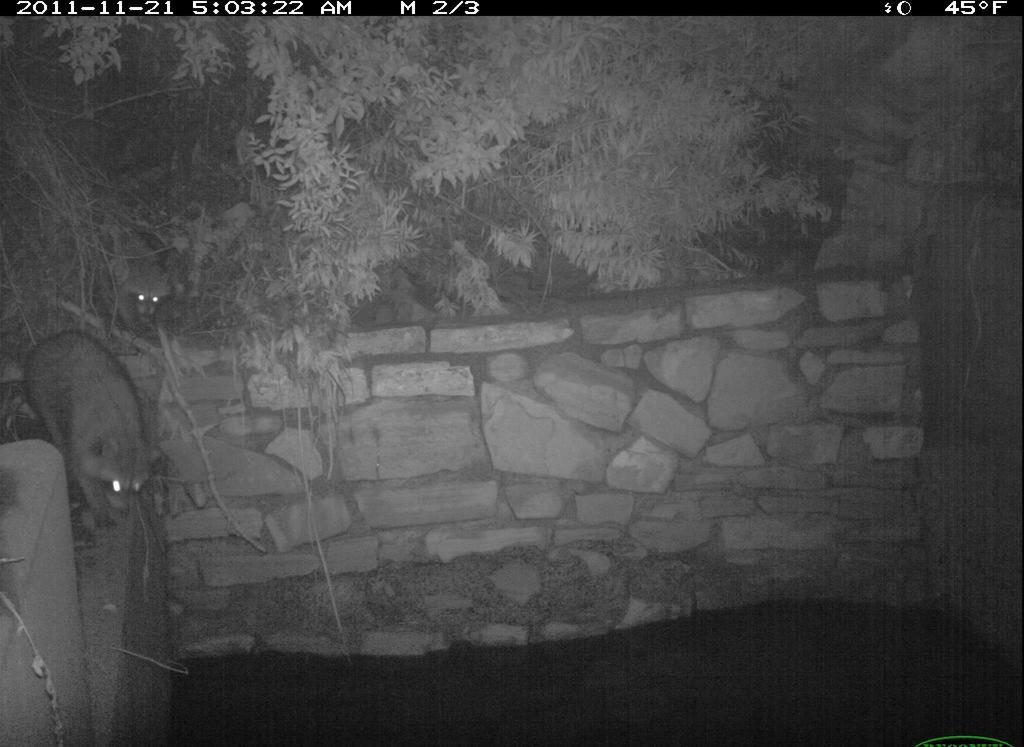raccoon: (18, 329, 168, 523), (85, 232, 178, 329)
